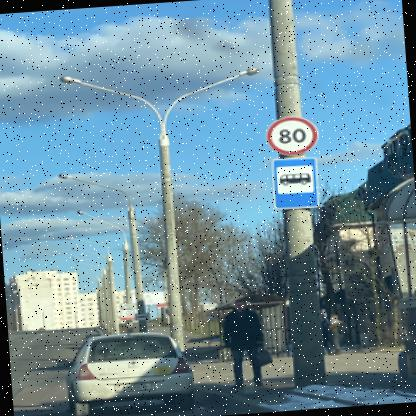speedlimit: (263, 114, 316, 154)
